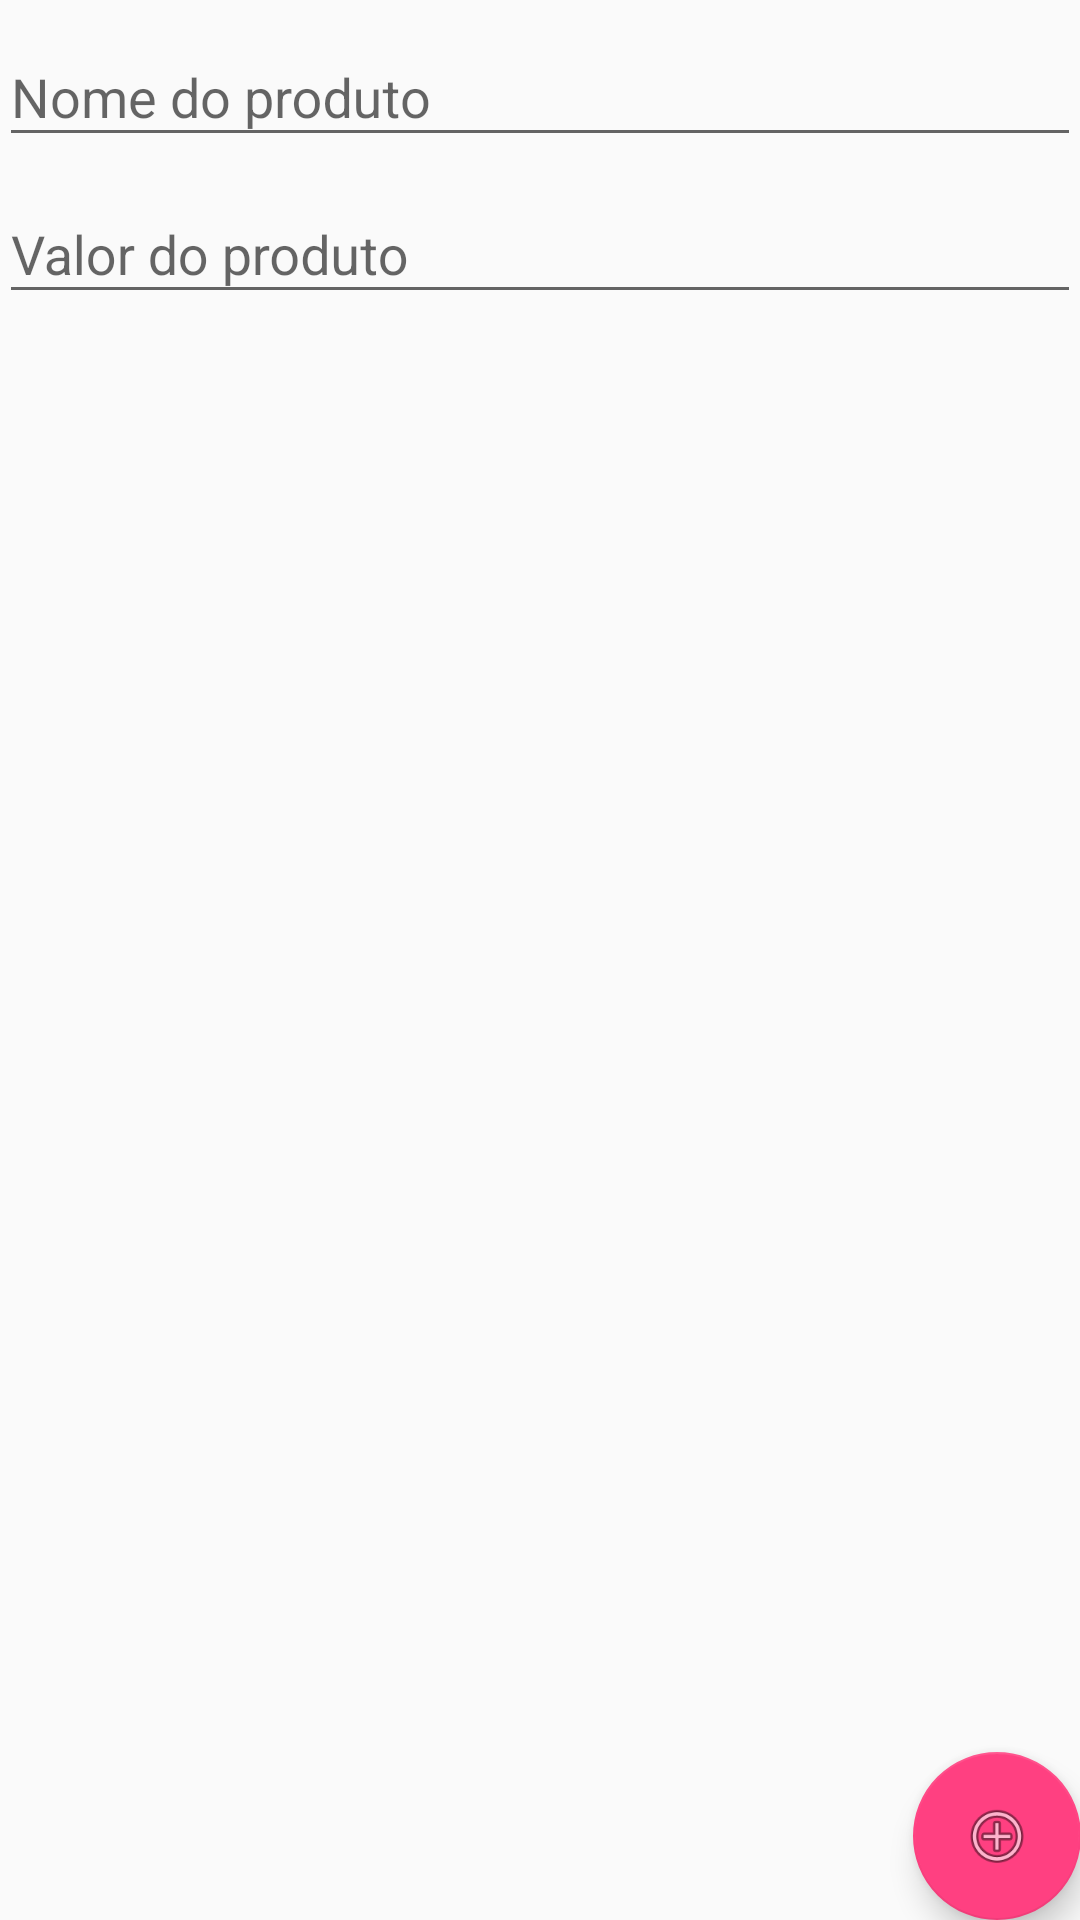

Screen size 1080*1920. Icon name, then its center in pixels as (x,y):
add: (996,1836)
